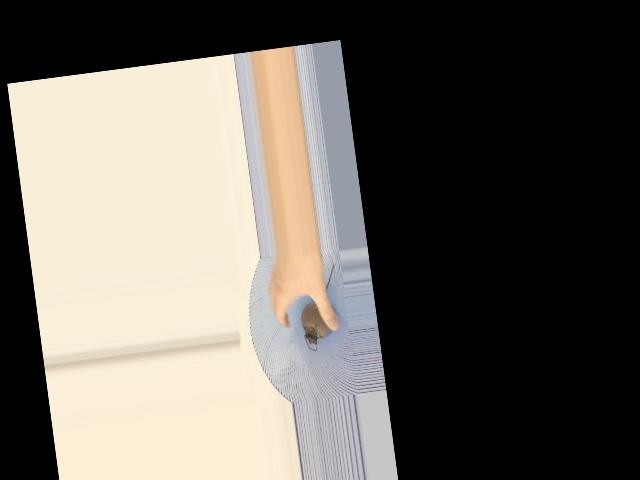beet: (294, 264, 345, 352)
